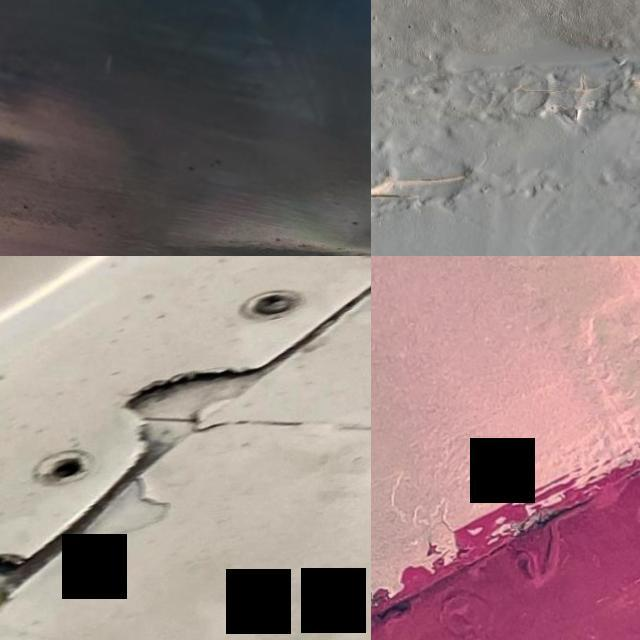Crack: (111, 362, 265, 464), (503, 67, 612, 134), (371, 161, 481, 215), (0, 545, 57, 640)
Dent: (165, 175, 371, 256)
Missing_Fastener: (35, 436, 90, 492)
